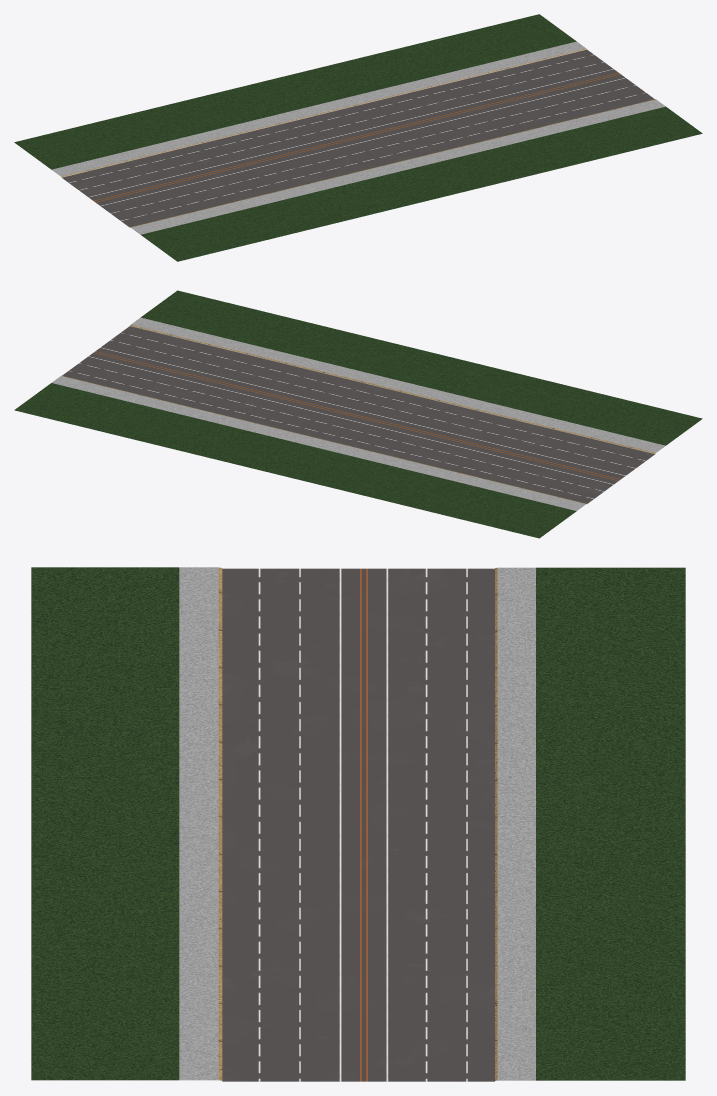
Rendered from pistamap.fbx.
The picture shows the model from 3 angles, top to bottom: view 1: azimuth 30°, elevation 25°; view 2: azimuth 150°, elevation 25°; view 3: azimuth 270°, elevation 25°; orthographic projection. The views are drawn at different scales.
Visible parts, largest first — view 1: pista; view 2: pista; view 3: pista.
Part boxes in pixels (bbox=[...]): pista: bbox=[14, 14, 702, 261]; pista: bbox=[14, 290, 702, 538]; pista: bbox=[31, 567, 685, 1081].
Bounding box in the file's own units: 10.75 × 0.0137 × 5.79.
